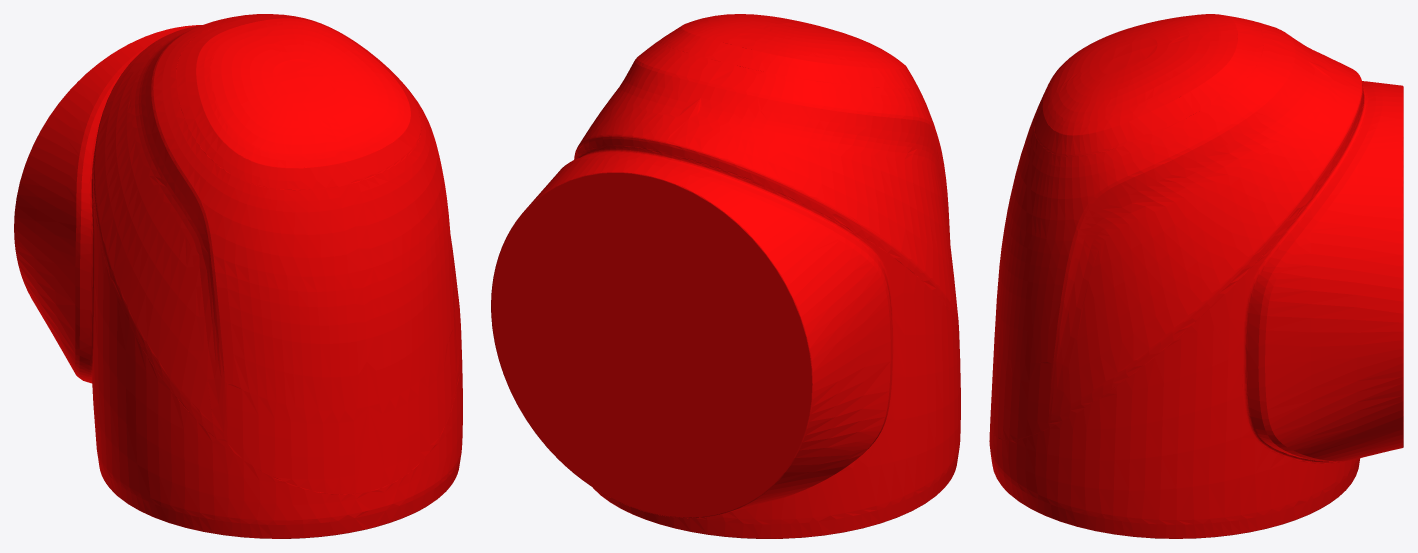
3 renders of one model, left to right at view 1: azimuth 30°, elevation 25°; view 2: azimuth 150°, elevation 25°; view 3: azimuth 270°, elevation 25°, orthographic. The views are drawn at different scales.
Parts seen in each view (by area): view 1: H2017_1_0; view 2: H2017_1_0; view 3: H2017_1_0.
Part boxes in pixels (<box>): H2017_1_0: <box>14,14,462,538</box>; H2017_1_0: <box>491,14,960,538</box>; H2017_1_0: <box>989,14,1403,538</box>.
Bounding box in the file's own units: 213 × 233 × 264.
